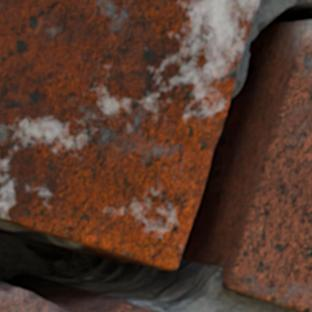brick: (0, 0, 258, 269), (223, 21, 311, 311)
broken_brick: (0, 288, 63, 311), (100, 303, 159, 311)
crack: (0, 0, 311, 311)
